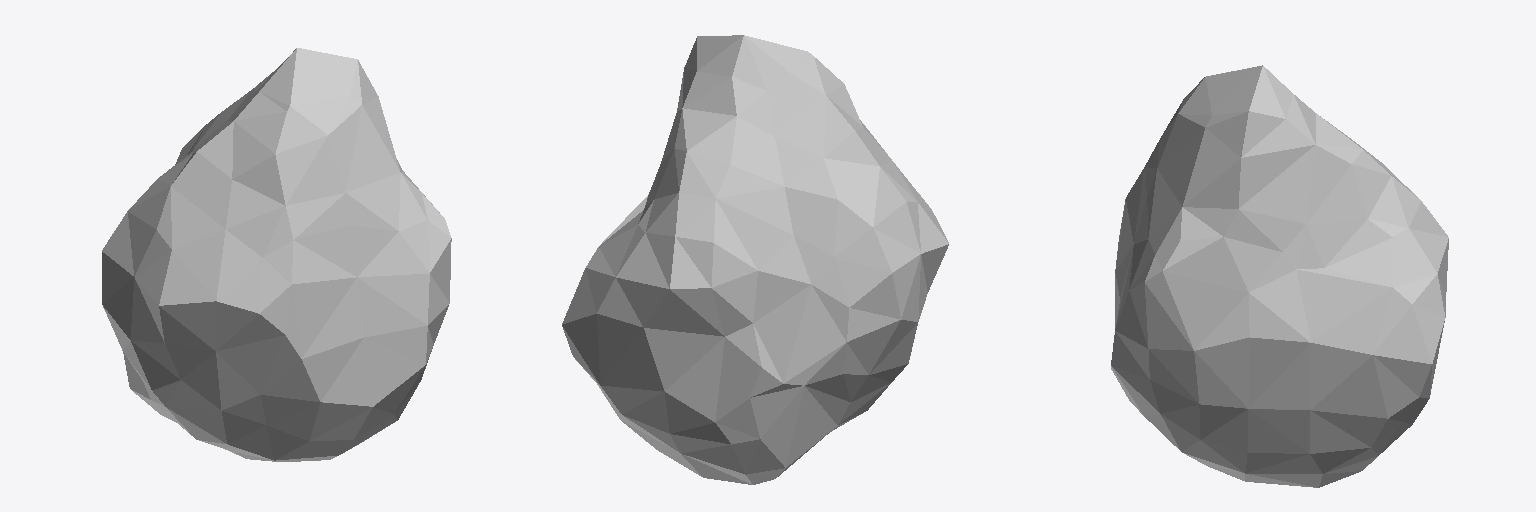
The model's file is test-rock1.obj.
3 renders of one model, left to right at view 1: azimuth 30°, elevation 25°; view 2: azimuth 150°, elevation 25°; view 3: azimuth 270°, elevation 25°, orthographic.
Parts seen in each view (by area): view 1: Rock1; view 2: Rock1; view 3: Rock1.
Part boxes in pixels (left/top/right/bottom): Rock1: left=102, top=48, right=451, bottom=461; Rock1: left=562, top=35, right=948, bottom=484; Rock1: left=1111, top=65, right=1448, bottom=487.
Bounding box in the file's own units: 2.12 × 2.91 × 2.16.